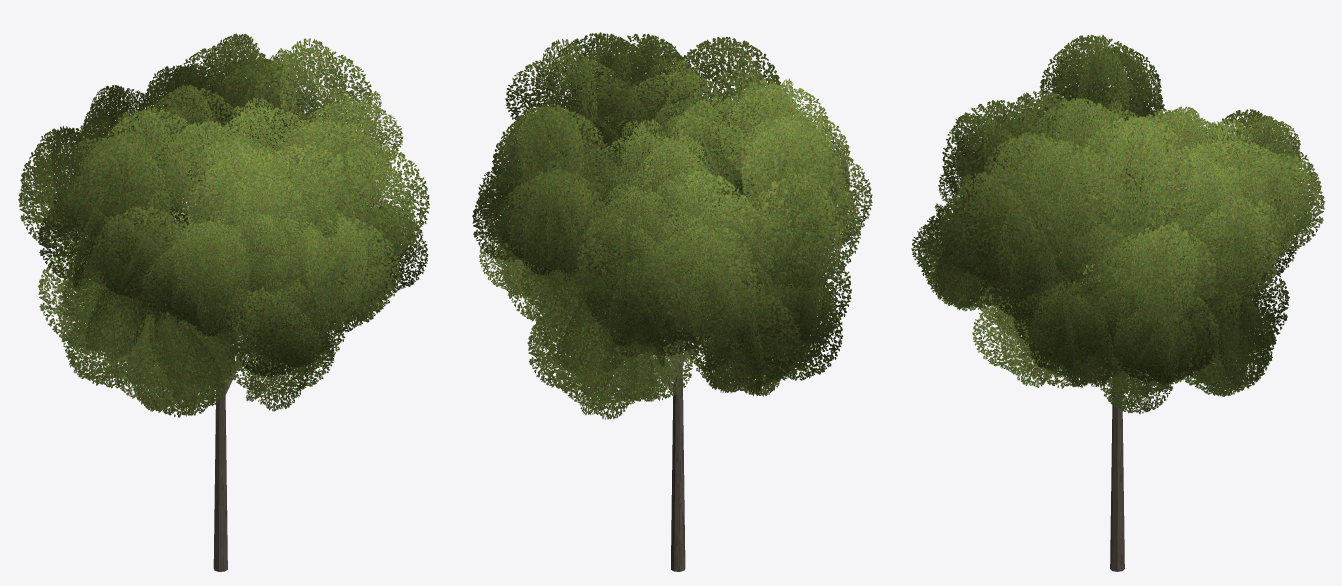
File: tree_honeylocust.glb
The picture shows the model from 3 angles, left to right: view 1: azimuth 30°, elevation 25°; view 2: azimuth 150°, elevation 25°; view 3: azimuth 270°, elevation 25°; orthographic projection. The views are drawn at different scales.
Visible parts, largest first — view 1: tree_honeylocust_crown, tree_honeylocust_trunk-col; view 2: tree_honeylocust_crown, tree_honeylocust_trunk-col; view 3: tree_honeylocust_crown, tree_honeylocust_trunk-col.
Part boxes in pixels (x1=…): tree_honeylocust_crown: x1=18, y1=33, x2=429, y2=417; tree_honeylocust_trunk-col: x1=213, y1=193, x2=227, y2=571; tree_honeylocust_crown: x1=472, y1=32, x2=872, y2=419; tree_honeylocust_trunk-col: x1=671, y1=195, x2=685, y2=571; tree_honeylocust_crown: x1=911, y1=34, x2=1325, y2=413; tree_honeylocust_trunk-col: x1=1110, y1=192, x2=1124, y2=571.
Bounding box in the file's own units: 9.09 × 12.26 × 9.38.
Materials: 2 (2 with a texture image).
